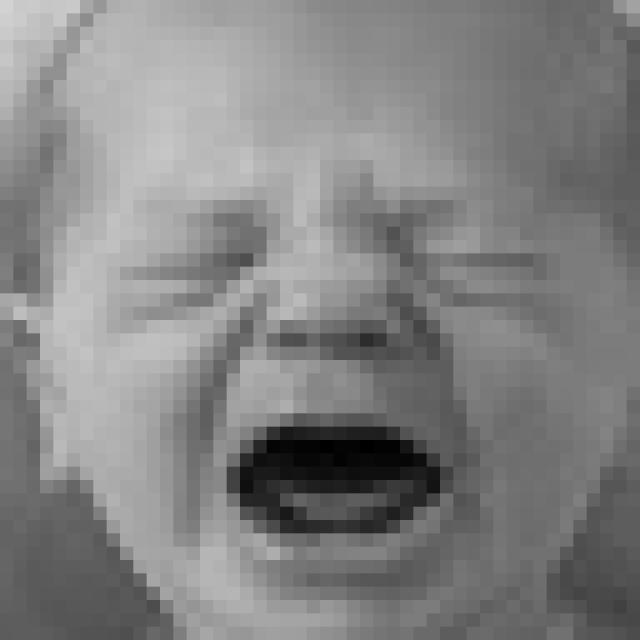sad: (104, 181, 567, 596)
